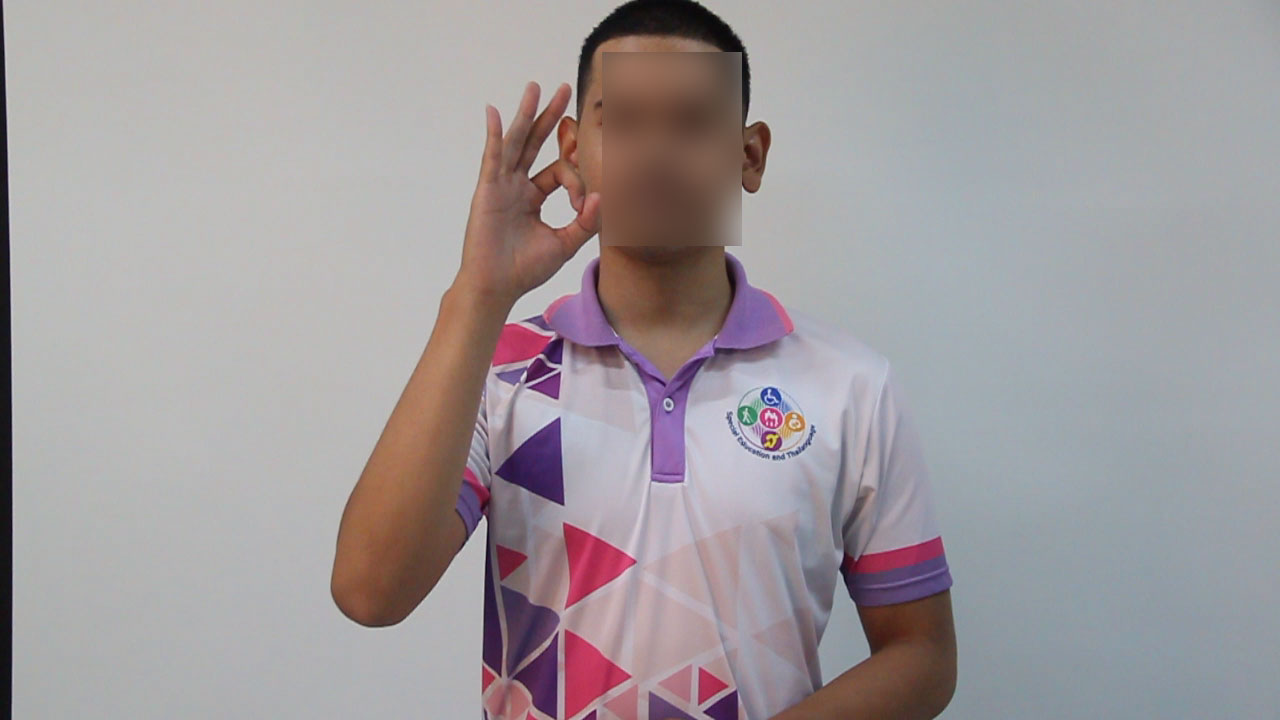for: (436, 69, 612, 312)
